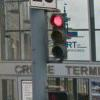Traffic light: (44, 5, 74, 61)
